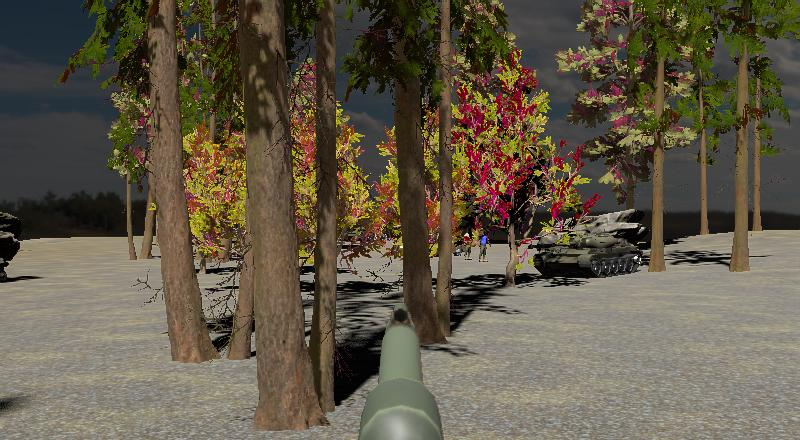Tank: (529, 230, 648, 280)
